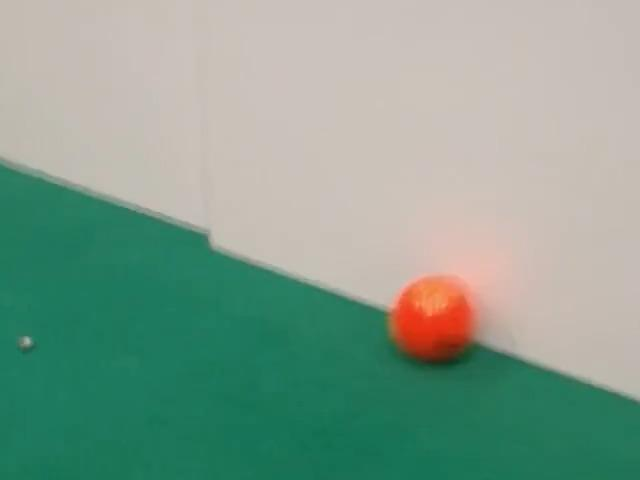Ball: (388, 275, 474, 362)
